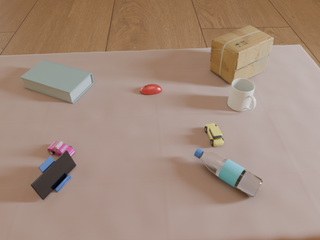book: (20, 60, 93, 104)
bottle: (194, 148, 263, 197)
box: (210, 25, 274, 84)
cup: (227, 78, 256, 111)
mouse: (140, 84, 162, 95)
phone: (31, 151, 76, 200)
toy_car: (205, 123, 224, 146), (48, 141, 75, 156)
